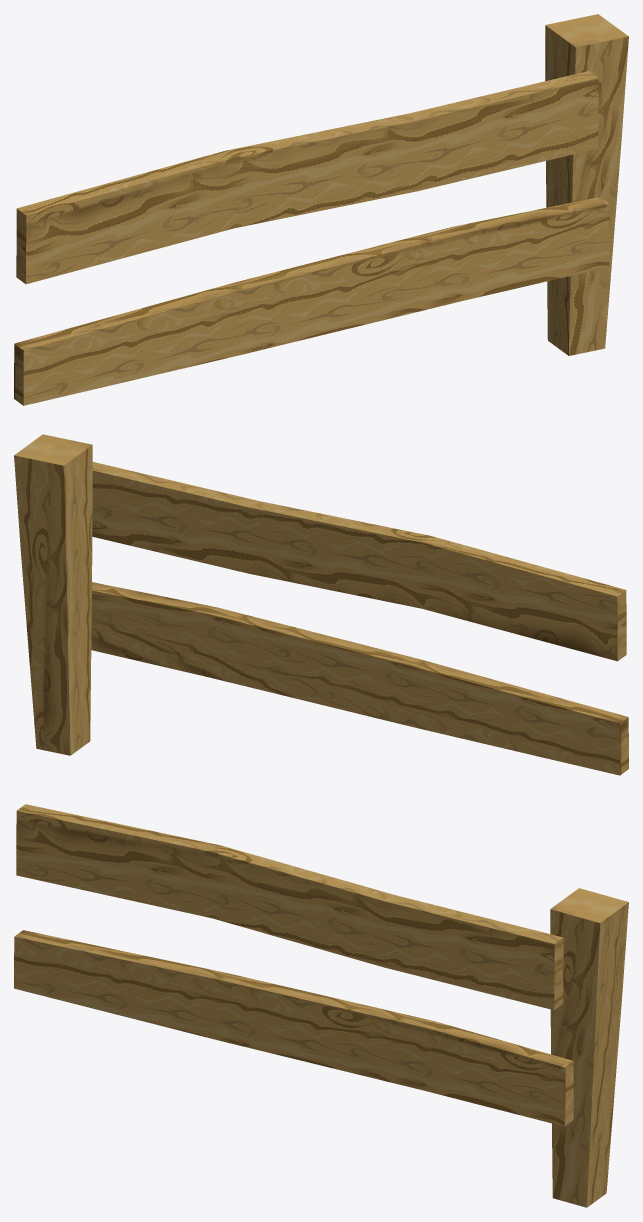
File: Fence_04.FBX
3 renders of one model, top to bottom at view 1: azimuth 30°, elevation 25°; view 2: azimuth 150°, elevation 25°; view 3: azimuth 330°, elevation 25°, orthographic. The views are drawn at different scales.
Visible parts, largest first — view 1: Fence_04; view 2: Fence_04; view 3: Fence_04.
Boxes of the visible parts, x1,y1,x2,y2 form: Fence_04: [14, 14, 628, 405]; Fence_04: [14, 434, 628, 775]; Fence_04: [14, 804, 628, 1207].
Size of the model in its own units: 206 by 100 by 23.15.
